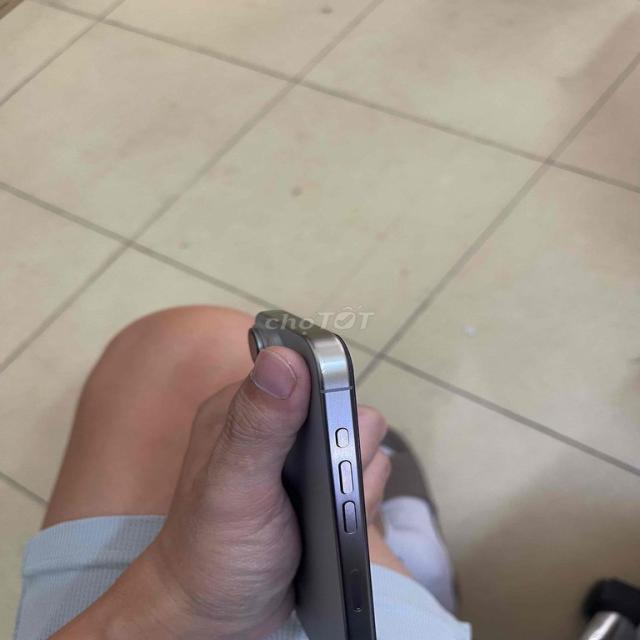gen_15: (225, 301, 416, 640)
